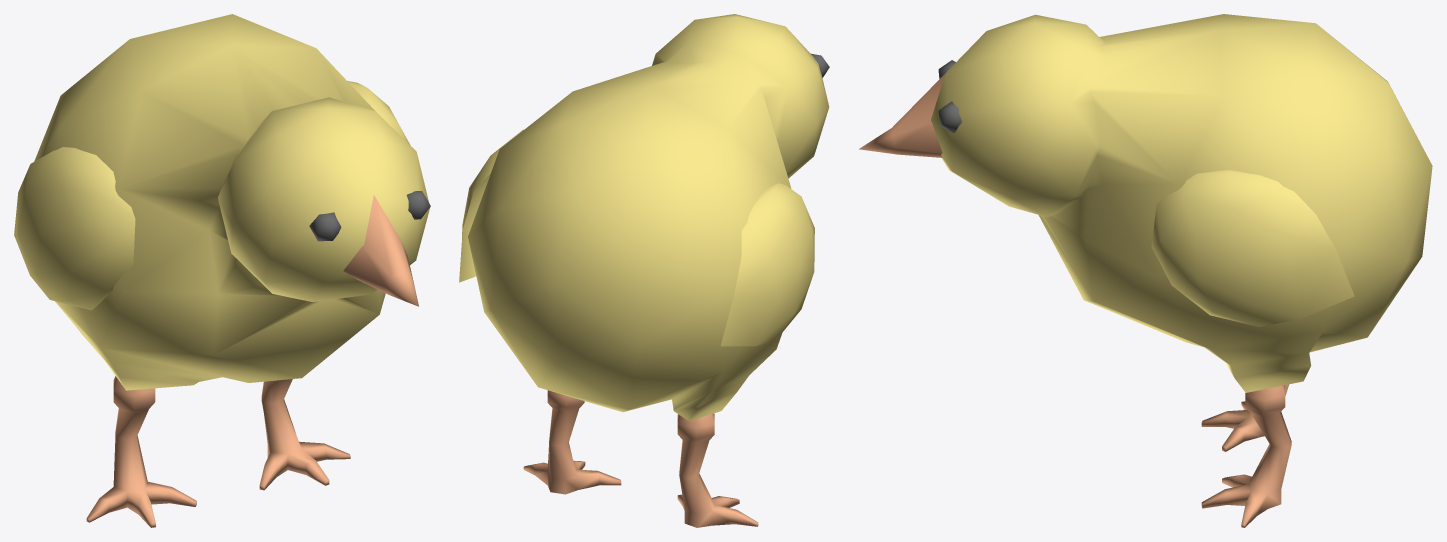
File: baby_chick_from_poly_by_google.glb
3 renders of one model, left to right at view 1: azimuth 30°, elevation 25°; view 2: azimuth 150°, elevation 25°; view 3: azimuth 270°, elevation 25°, orthographic. The views are drawn at different scales.
Visible parts, largest first — view 1: Object_4, Object_5, Object_6; view 2: Object_4, Object_5; view 3: Object_4, Object_5, Object_6.
Boxes of the visible parts, x1,y1,x2,y2 form: Object_4: (14,14,430,390); Object_5: (86,195,418,527); Object_6: (309,191,430,241); Object_4: (459,14,829,420); Object_5: (523,390,758,527); Object_4: (931,14,1432,392); Object_5: (859,74,1291,527); Object_6: (938,60,961,133).
Size of the model in its own units: 215 by 265 by 311.
